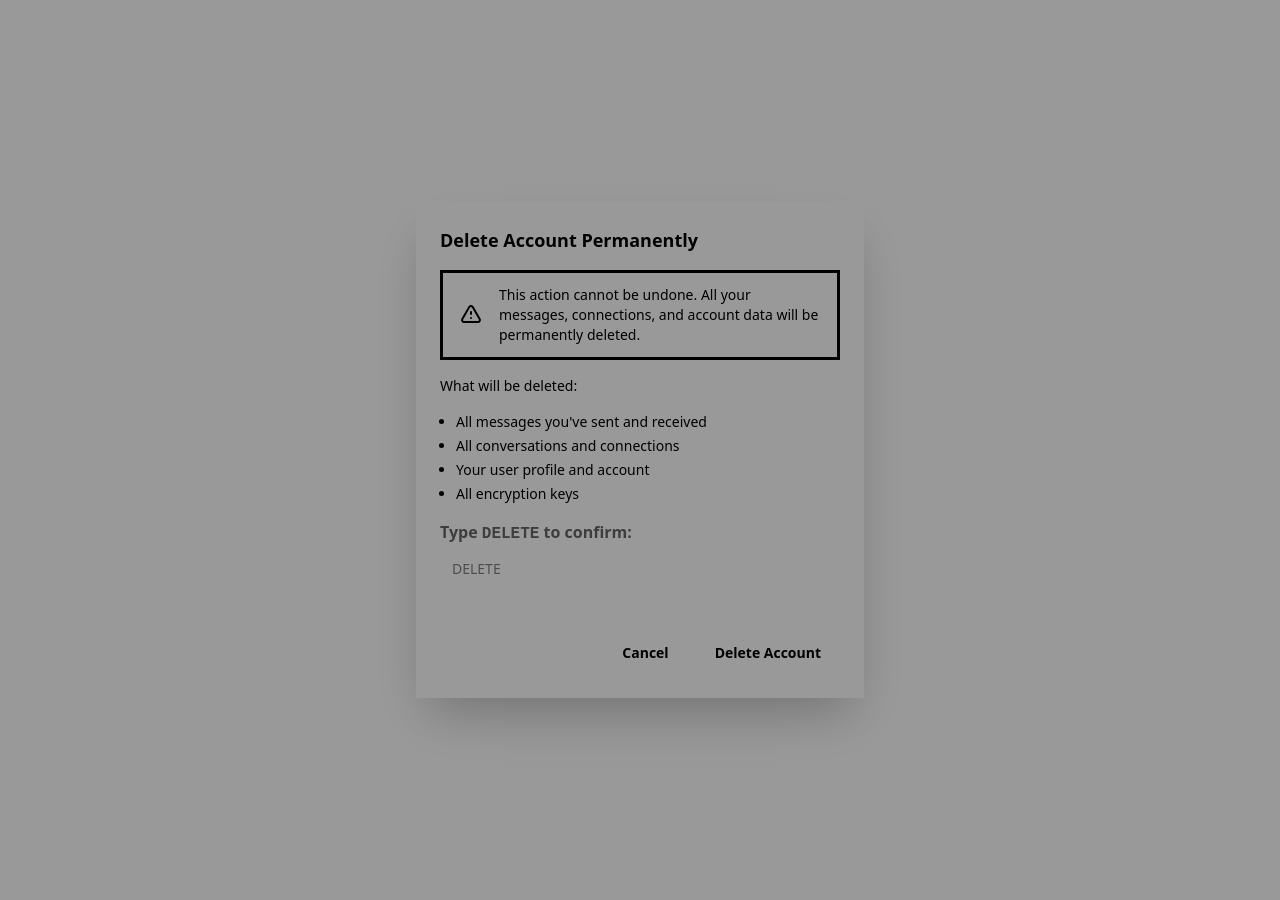
Test case: AccountDeletionModal Accessibility › should announce validation errors to screen readers
// Type incorrect text
Type "delete" into the field with placeholder "DELETE" at point(600, 568), box [440,546,760,590]
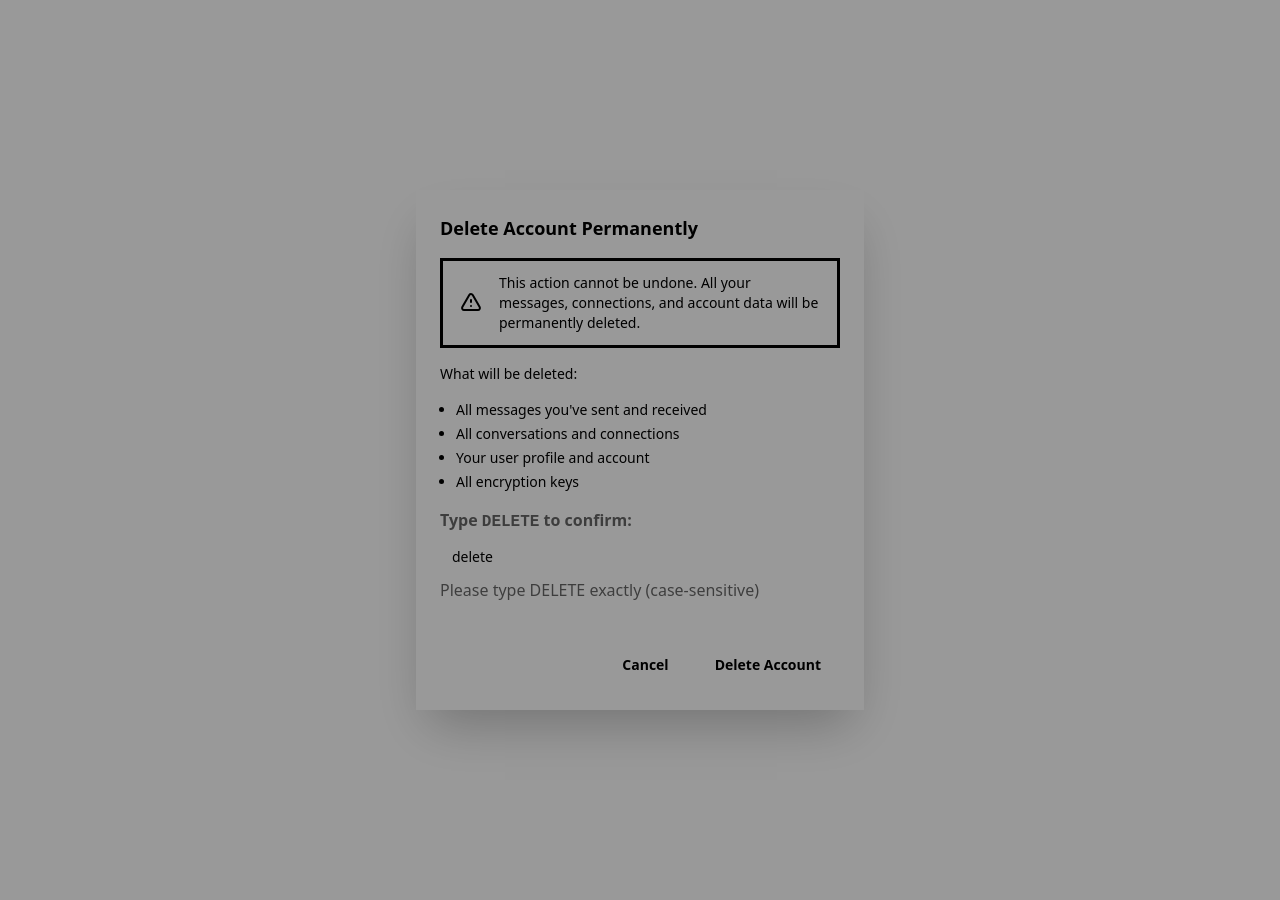
Now the text "Please type DELETE exactly (case-sensitive)" is shown, box [440,578,759,602]
